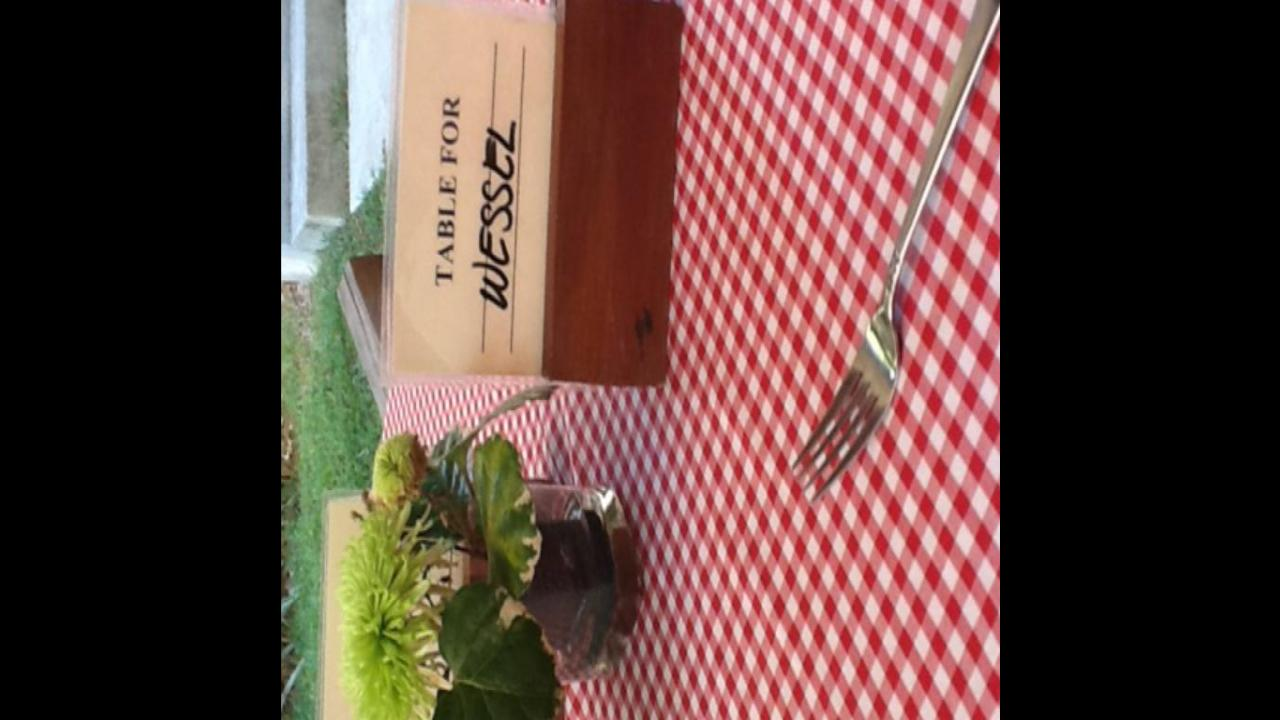fork: (789, 0, 1000, 506)
